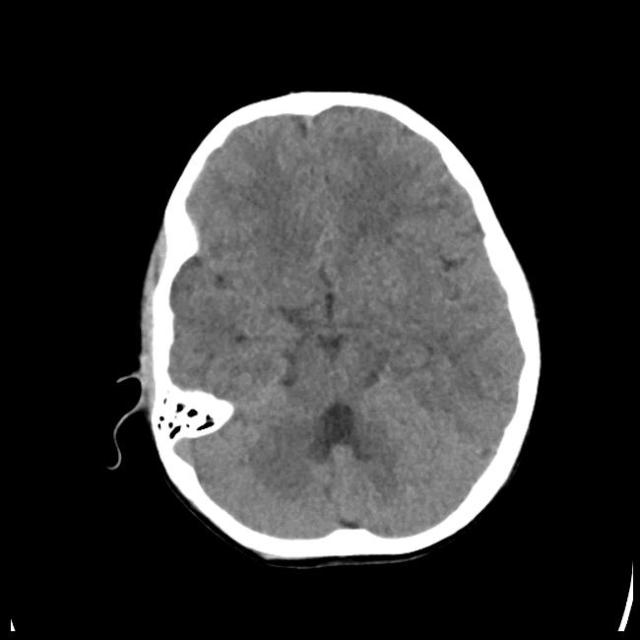lesion: (121, 89, 544, 565)
